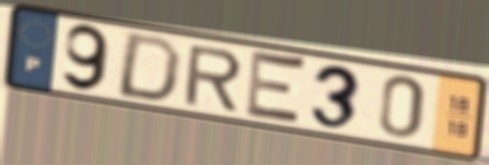0: (375, 73, 429, 143)
3: (306, 62, 371, 135)
9: (60, 22, 114, 94)
D: (112, 30, 186, 104)
E: (241, 45, 310, 130)
R: (181, 43, 245, 114)
